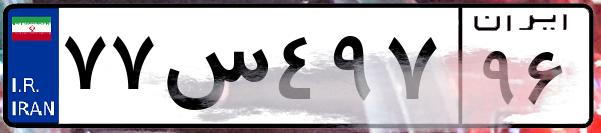4: (270, 28, 330, 110)
6: (525, 38, 570, 115)
7: (385, 28, 445, 110), (57, 26, 110, 100), (110, 28, 158, 98)
9: (330, 28, 385, 110), (475, 38, 525, 113)
س: (158, 20, 270, 120)
